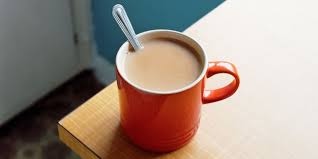cup: (111, 28, 245, 155)
